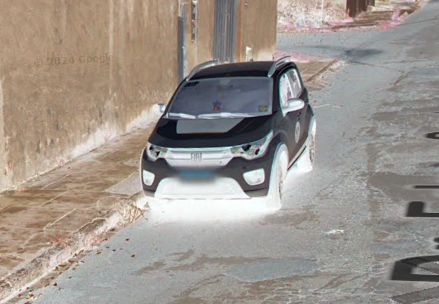car: (136, 54, 323, 218)
